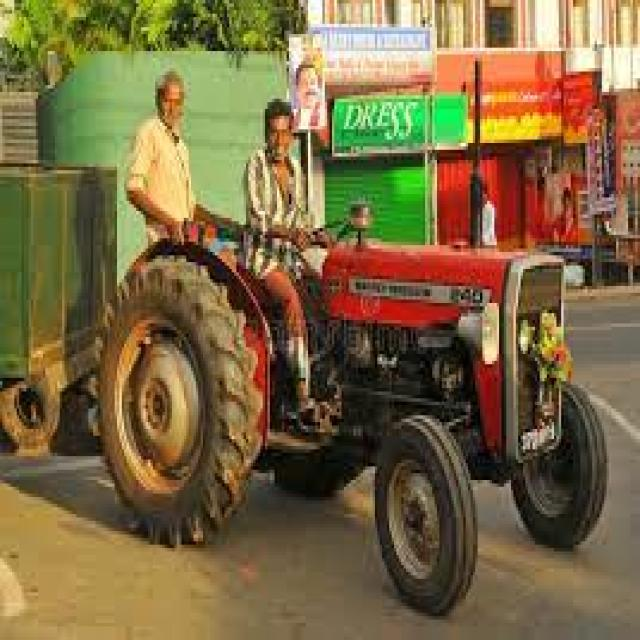person: (246, 99, 308, 398), (127, 71, 193, 242)
tractor: (0, 170, 604, 609)
